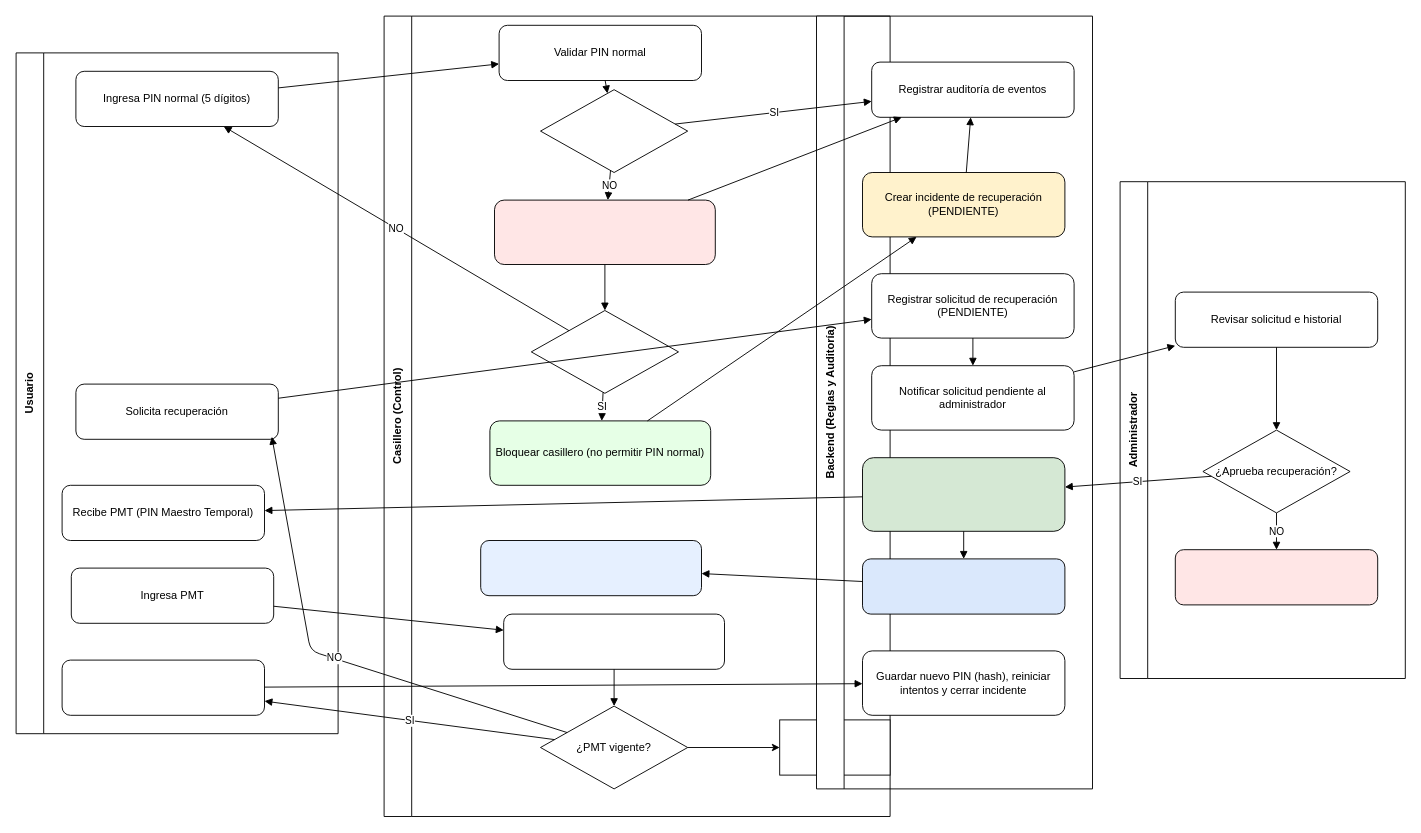
Some shapes in this 1421 by 833 pixel diagram are drawn without their labels. The centre of each missing label's shape, as x and y in pixels:
"Activar modo RECUPERACIÓN" belongs at point 591,568.
"Define nuevo PIN normal (5 dígitos)" belongs at point 162,687.
"Habilitar recuperación para ese casillero" belongs at point 963,586.
"Rechazar (mantener bloqueo)" belongs at point 1276,577.
"Registrar intento fallido (+1) y reportar evento" belongs at point 604,231.
"Si aprueba: generar Pin Maestro Temporal (5 dígitos, 1 uso)" belongs at point 963,494.
"Validar PMT" belongs at point 613,641.
"¿Intentos = 3?" belongs at point 604,351.
"¿PIN correcto?" belongs at point 614,130.
